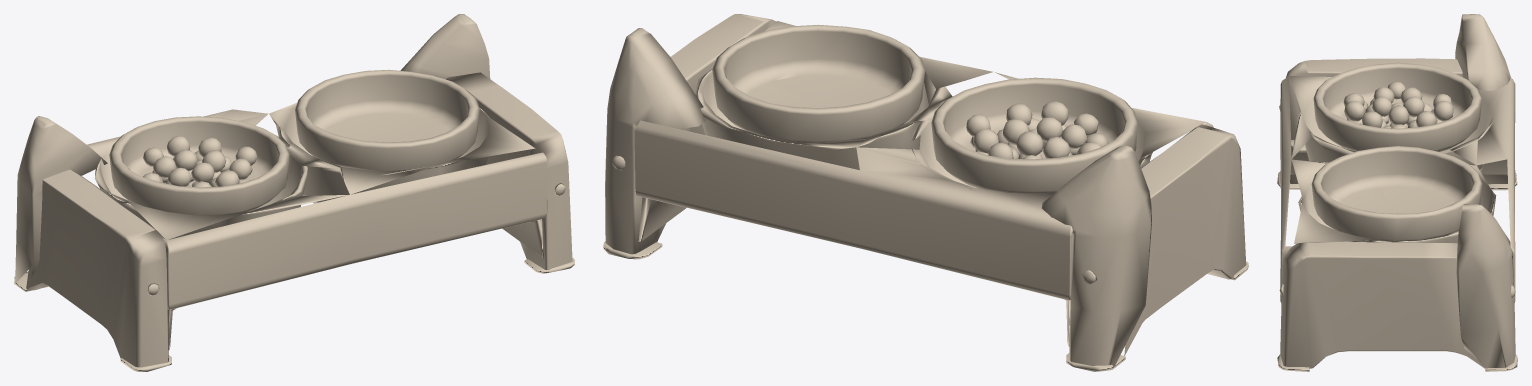
File: kitchen-1-geometry.glb
3 renders of one model, left to right at view 1: azimuth 30°, elevation 25°; view 2: azimuth 150°, elevation 25°; view 3: azimuth 270°, elevation 25°, orthographic. The views are drawn at different scales.
Size of the model in its own units: 1 by 0.3662 by 0.4922.
